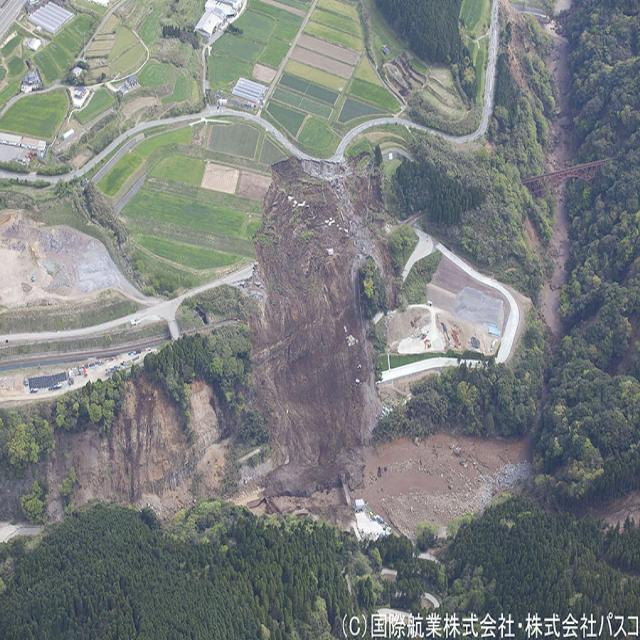Debris-flow: (0, 158, 534, 539), (542, 188, 568, 332), (549, 36, 572, 165), (590, 493, 640, 524)
